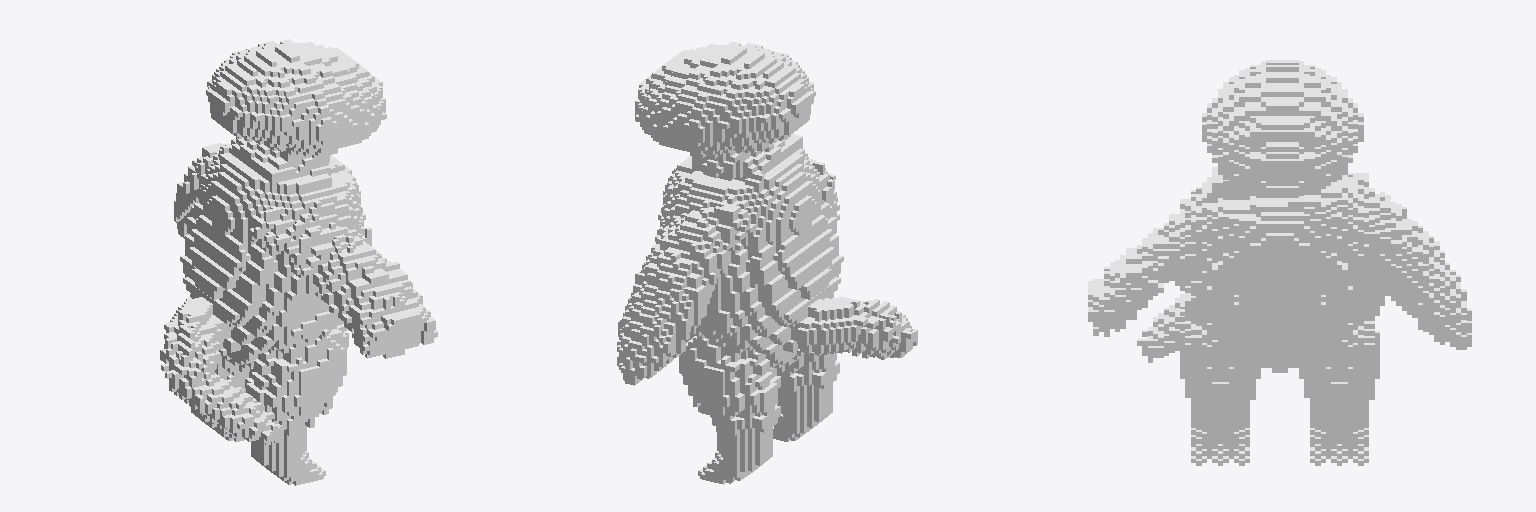
The model's file is dino_barney.obj.
3 views of the same model, side by side, from view 1: azimuth 30°, elevation 25°; view 2: azimuth 150°, elevation 25°; view 3: azimuth 270°, elevation 25° (orthographic).
Visible parts, largest first — view 1: object 1; view 2: object 1; view 3: object 1.
Part boxes in pixels (bbox=[...]): object 1: bbox=[160, 39, 437, 485]; object 1: bbox=[617, 41, 917, 484]; object 1: bbox=[1088, 60, 1471, 465].
Size of the model in its own units: 5 by 8 by 7.1.